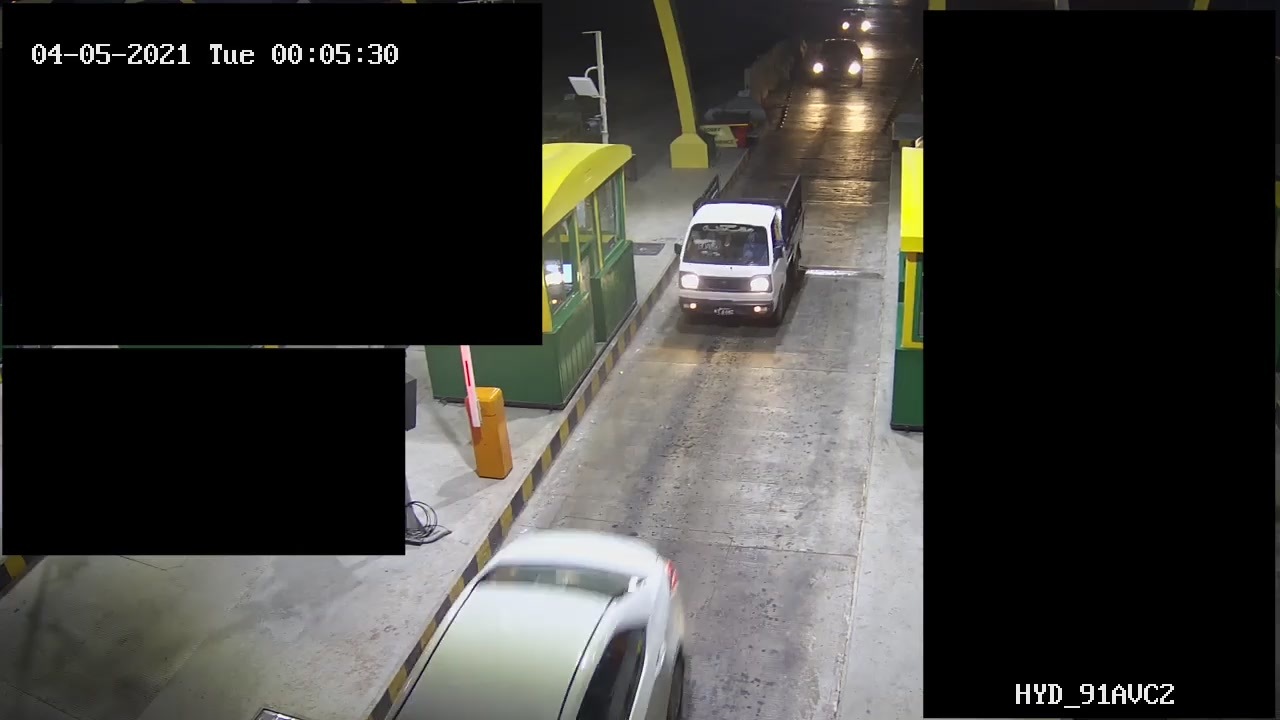F1: (670, 167, 805, 337)
